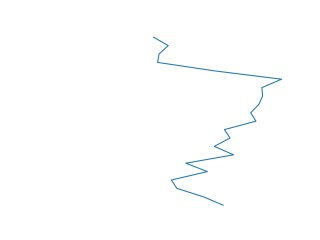floodPlain: (152, 35, 285, 210)
